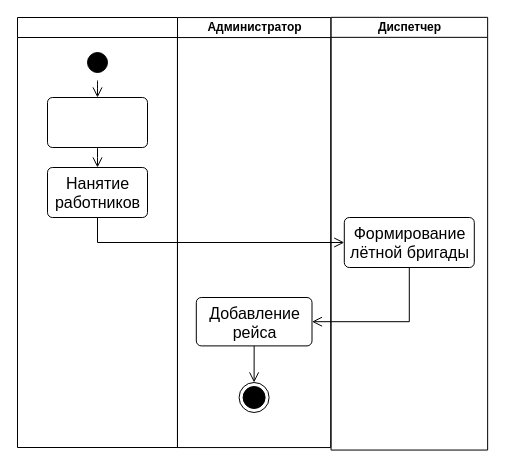
This 506x468 diagram has some shape labels left out. The shapes that lost their labels are listed below. From the top down, each one's centre as x and y in pixels, then its label:
At point 97,122: "Добавление самолёта".
At point 97,232: "Авиакомпания".
